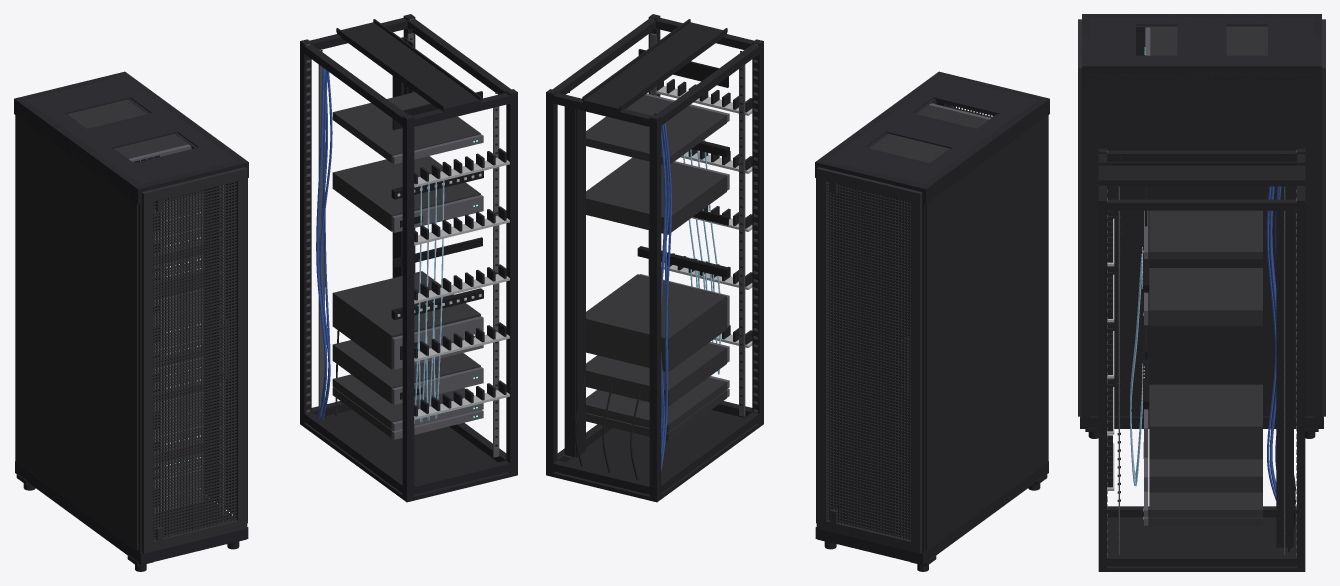
3 renders of one model, left to right at view 1: azimuth 30°, elevation 25°; view 2: azimuth 150°, elevation 25°; view 3: azimuth 270°, elevation 25°, orthographic. The views are drawn at different scales.
Parts seen in each view (by area): view 1: RackA_SidePanels, RackB, RackA_FrontDoor, RackA_TopPanel, RackA_Frame, RackB_Frame, RackB_CableMgmt, RackA, RackB_BasePlate, RackB_Cables, RackB_TopTray, RackB_Rails (+1 smaller); view 2: RackB, RackA_SidePanels, RackA_RearDoor, RackB_CableMgmt, RackA_TopPanel, RackA_Frame, RackA_Interior, RackB_Frame, RackB_BasePlate, RackB_TopTray, RackB_Cables, RackB_Rails (+1 smaller); view 3: RackA_SidePanels, RackB, RackA_TopPanel, RackB_Frame, RackB_CableMgmt, RackA_Frame, RackB_BasePlate, RackB_TopTray, RackB_Cables, RackA, RackB_Rails, RackA_FrontDoor (+1 smaller).
Boxes of the visible parts, left/top/right/bottom form: RackA_SidePanels: left=15, top=105, right=247, bottom=550; RackB: left=300, top=14, right=517, bottom=498; RackA_FrontDoor: left=141, top=167, right=247, bottom=553; RackA_TopPanel: left=15, top=71, right=247, bottom=190; RackA_Frame: left=14, top=72, right=248, bottom=564; RackB_Frame: left=304, top=18, right=513, bottom=495; RackB_CableMgmt: left=392, top=37, right=509, bottom=419; RackA: left=67, top=99, right=203, bottom=512; RackB_BasePlate: left=300, top=410, right=517, bottom=502; RackB_Cables: left=316, top=67, right=444, bottom=423; RackB_TopTray: left=336, top=19, right=481, bottom=112; RackB_Rails: left=318, top=29, right=499, bottom=457; RackB: left=546, top=14, right=763, bottom=498; RackA_SidePanels: left=816, top=102, right=1048, bottom=550; RackA_RearDoor: left=816, top=167, right=922, bottom=553; RackB_CableMgmt: left=564, top=79, right=752, bottom=457; RackA_TopPanel: left=816, top=71, right=1045, bottom=192; RackA_Frame: left=815, top=72, right=1049, bottom=564; RackA_Interior: left=831, top=185, right=910, bottom=537; RackB_Frame: left=550, top=18, right=759, bottom=495; RackB_BasePlate: left=546, top=410, right=763, bottom=502; RackB_TopTray: left=582, top=19, right=727, bottom=112; RackB_Cables: left=574, top=123, right=720, bottom=479; RackB_Rails: left=564, top=28, right=745, bottom=457; RackA_SidePanels: left=1084, top=32, right=1319, bottom=416; RackB: left=1098, top=148, right=1305, bottom=568; RackA_TopPanel: left=1082, top=14, right=1321, bottom=66; RackB_Frame: left=1098, top=150, right=1305, bottom=566; RackB_CableMgmt: left=1107, top=210, right=1293, bottom=547; RackA_Frame: left=1080, top=14, right=1323, bottom=428; RackB_BasePlate: left=1098, top=517, right=1305, bottom=571; RackB_TopTray: left=1098, top=162, right=1305, bottom=186; RackB_Cables: left=1130, top=186, right=1295, bottom=551; RackA: left=1144, top=27, right=1267, bottom=55; RackB_Rails: left=1117, top=158, right=1286, bottom=554; RackA_FrontDoor: left=1078, top=19, right=1081, bottom=416.
Bounding box in the file's own units: 2.1 × 2 × 1.2.
